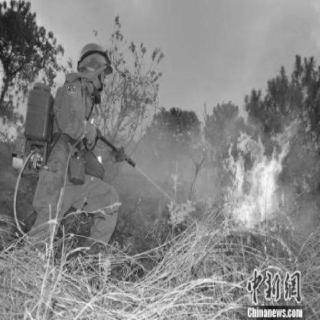Fire: (214, 122, 302, 238)
other: (242, 264, 306, 318)
